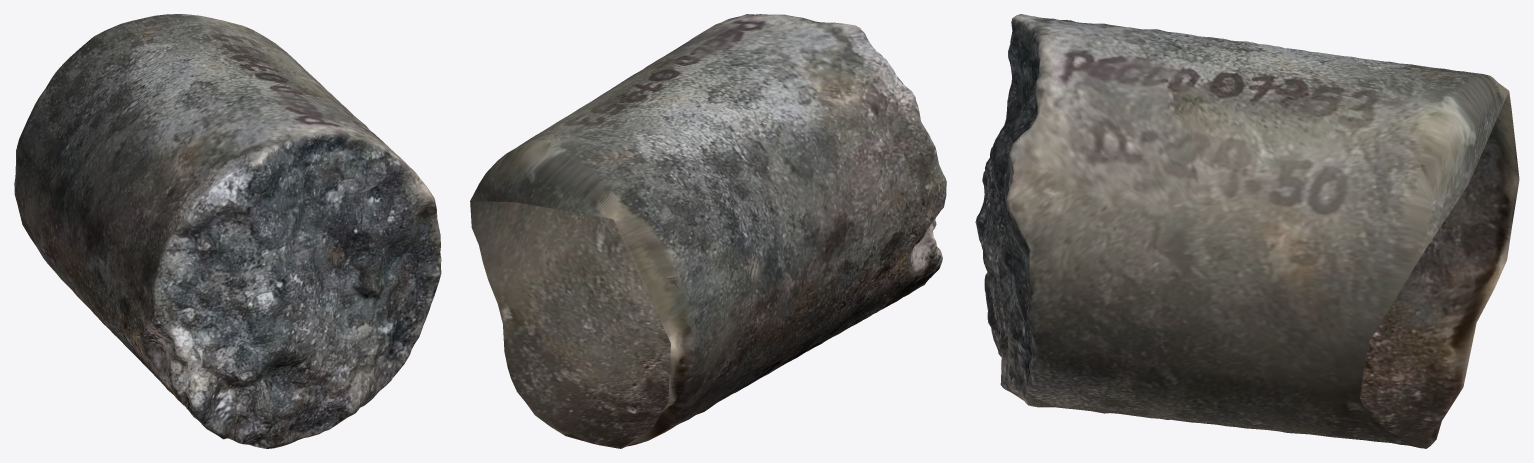
File: PECLD07753 T1.GLB
The picture shows the model from 3 angles, left to right: view 1: azimuth 30°, elevation 25°; view 2: azimuth 150°, elevation 25°; view 3: azimuth 270°, elevation 25°; orthographic projection. The views are drawn at different scales.
Parts seen in each view (by area): view 1: baked_mesh; view 2: baked_mesh; view 3: baked_mesh.
Boxes of the visible parts, left/top/right/bottom form: baked_mesh: left=14, top=14, right=441, bottom=448; baked_mesh: left=470, top=14, right=946, bottom=448; baked_mesh: left=975, top=14, right=1519, bottom=448.
Size of the model in its own units: 0.3312 by 0.3035 by 0.4087.
Materials: 1 (1 with a texture image).
